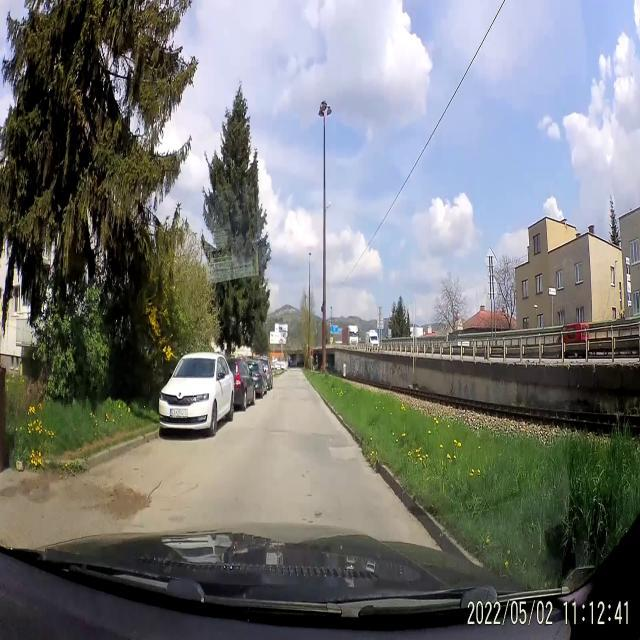Pothole: (96, 473, 167, 524)
